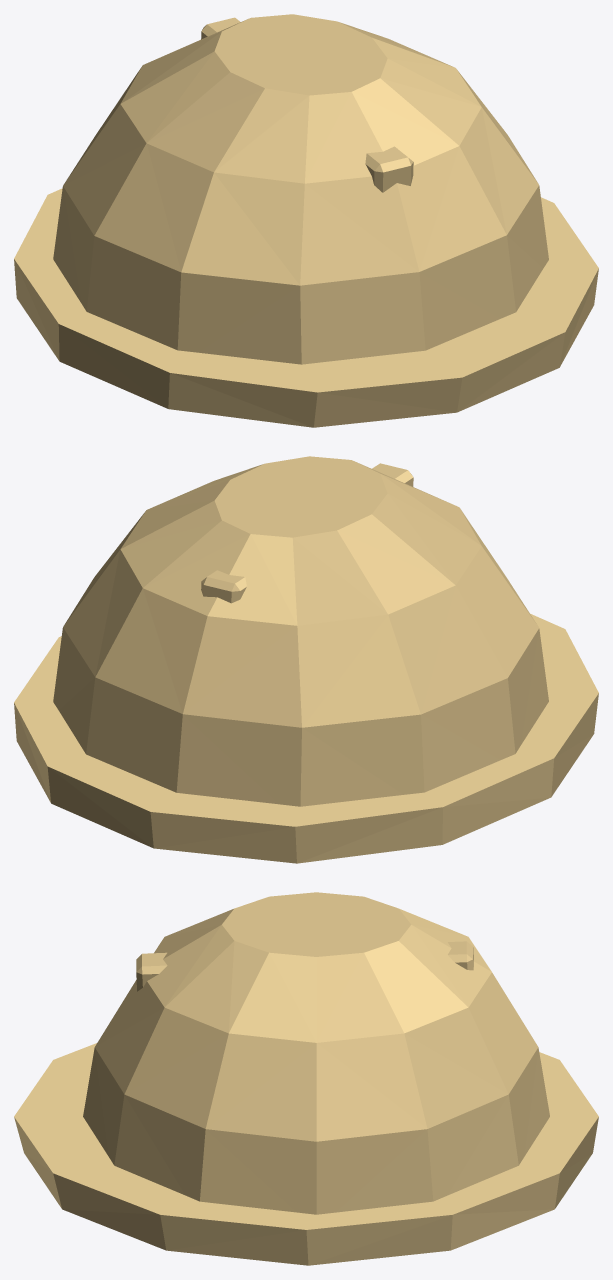
Rendered from EP_Hat_SafetyHelmet.fbx.
The picture shows the model from 3 angles, top to bottom: view 1: azimuth 30°, elevation 25°; view 2: azimuth 150°, elevation 25°; view 3: azimuth 270°, elevation 25°; orthographic projection. The views are drawn at different scales.
Visible parts, largest first — view 1: EP_Hat_SafetyHelmet; view 2: EP_Hat_SafetyHelmet; view 3: EP_Hat_SafetyHelmet.
Part boxes in pixels (x1,y1,x2,y2): EP_Hat_SafetyHelmet: [14, 14, 598, 427]; EP_Hat_SafetyHelmet: [14, 456, 598, 863]; EP_Hat_SafetyHelmet: [14, 892, 598, 1265].
Bounding box in the file's own units: 0.266 × 0.125 × 0.29.
1 material, 1 textured.
